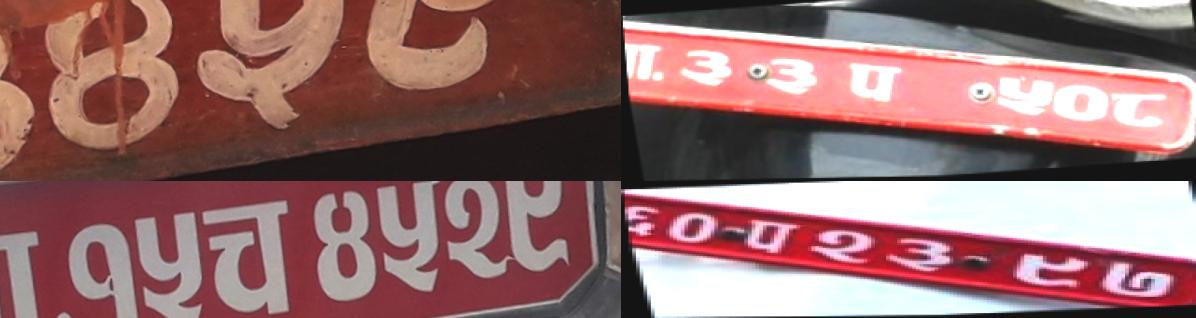0: (1047, 84, 1108, 124), (657, 212, 716, 242)
1: (58, 211, 143, 318)
2: (435, 181, 514, 299), (804, 228, 872, 263)
3: (882, 238, 949, 271), (676, 47, 730, 87), (763, 56, 816, 92)
4: (301, 183, 383, 315)
5: (33, 0, 187, 161), (368, 181, 449, 307), (127, 203, 210, 318), (0, 11, 41, 181), (990, 75, 1054, 117)
6: (181, 0, 364, 138), (624, 204, 657, 233)
7: (1084, 259, 1172, 299)
8: (1107, 90, 1167, 132)
9: (497, 181, 582, 288), (1005, 253, 1084, 289)
ba: (0, 222, 60, 318), (623, 37, 664, 82)
cha: (193, 192, 305, 318)
lu: (350, 0, 533, 112)
pa: (841, 57, 902, 107), (735, 215, 804, 257)
